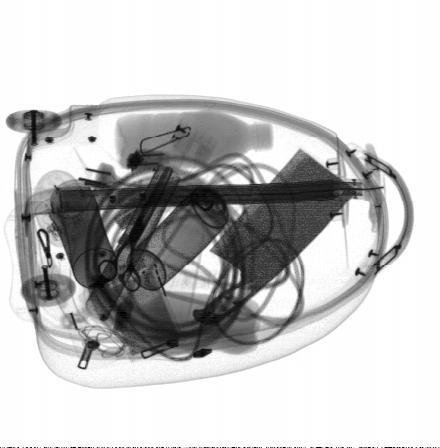Knife: (193, 147, 355, 326)
Powerbank: (92, 256, 186, 366)
Scissors: (88, 165, 175, 293)
Sprayer: (125, 169, 245, 290)
